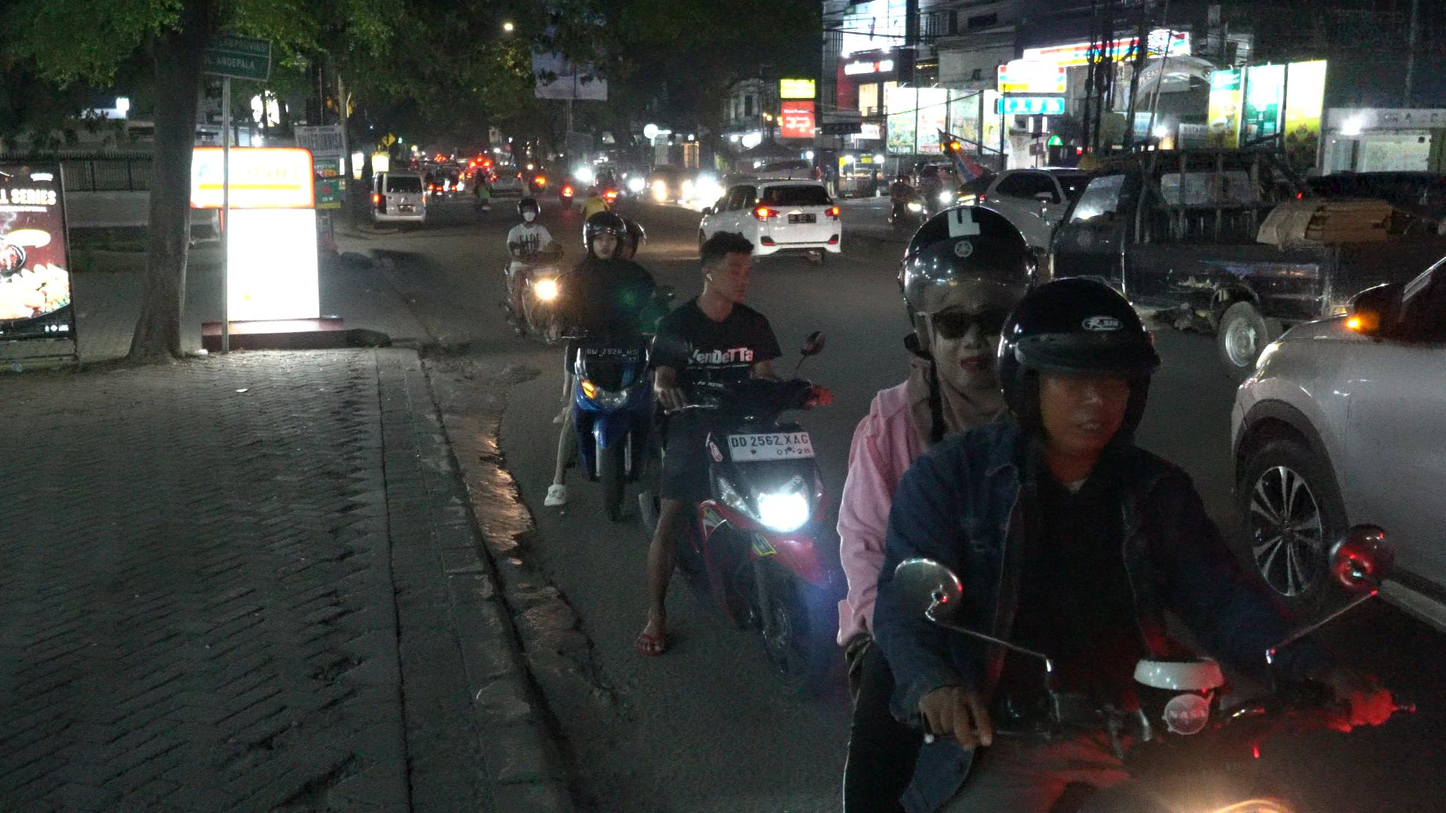number-plate: (719, 424, 815, 462), (581, 340, 643, 369)
